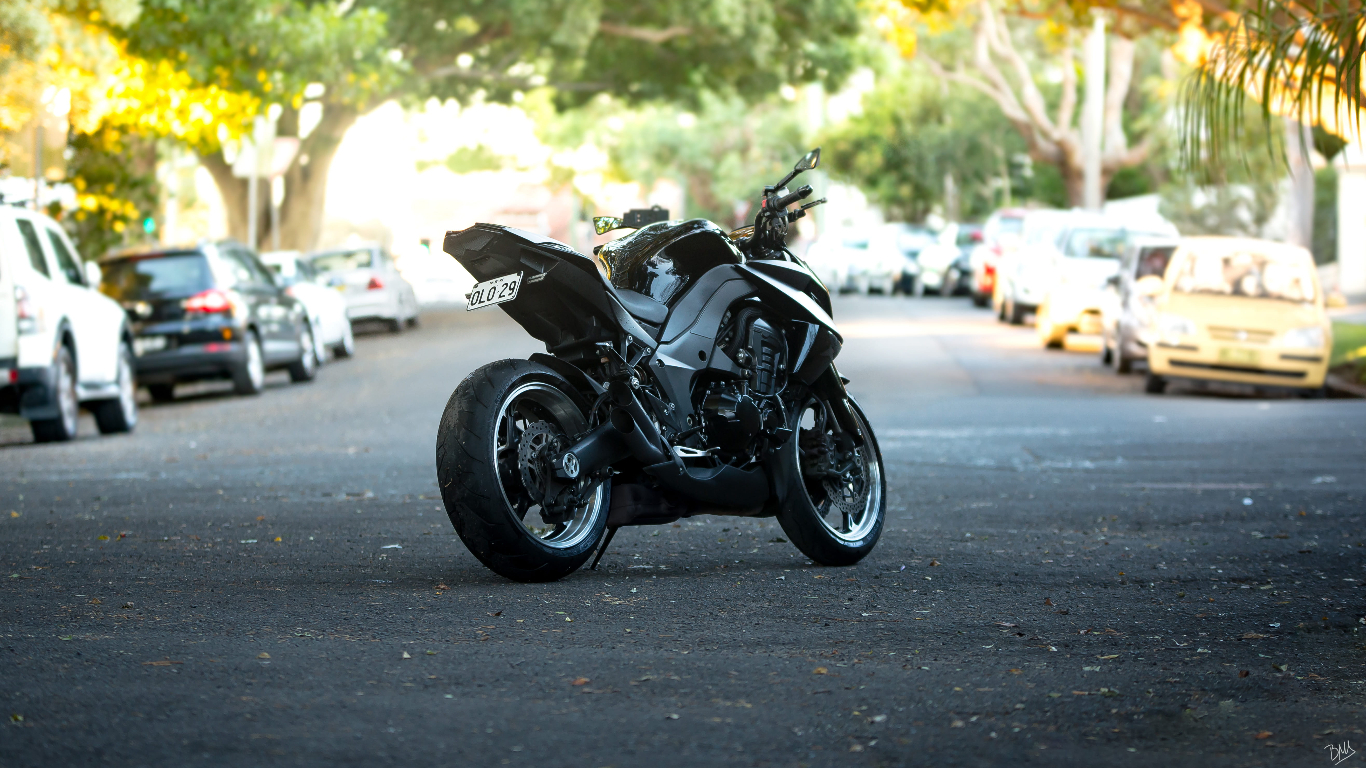SuperBike: (434, 141, 901, 579)
